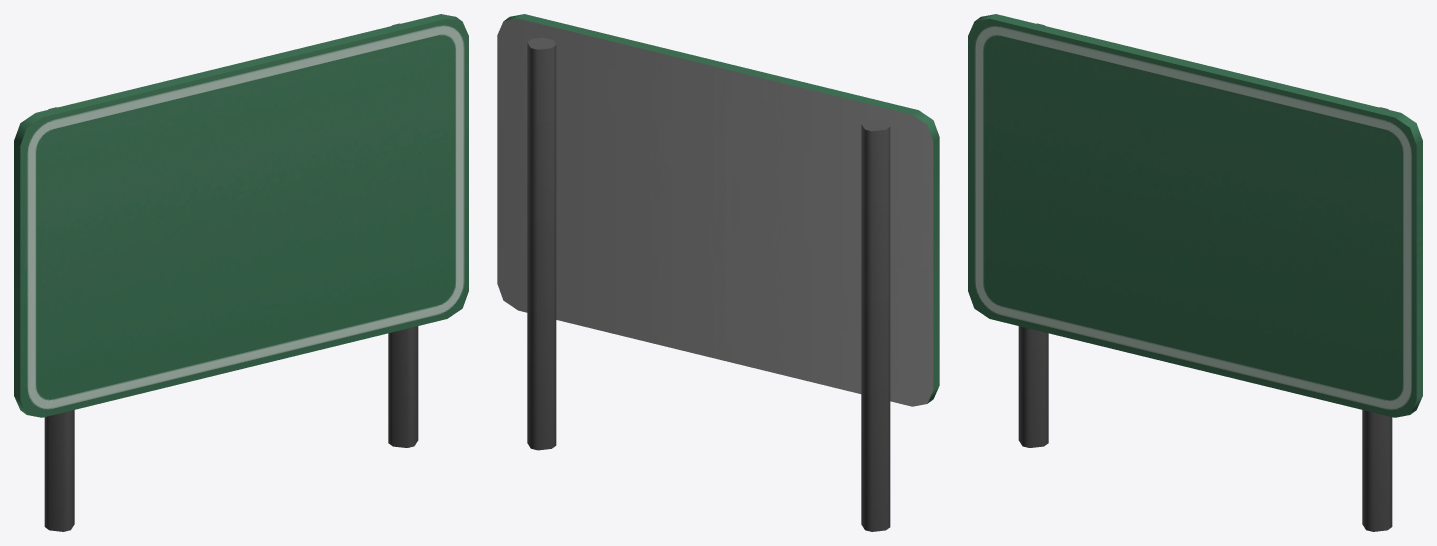
The model's file is IronSignHand.fbx.
The picture shows the model from 3 angles, left to right: view 1: azimuth 30°, elevation 25°; view 2: azimuth 150°, elevation 25°; view 3: azimuth 330°, elevation 25°; orthographic projection. The views are drawn at different scales.
Parts seen in each view (by area): view 1: crate; view 2: crate; view 3: crate.
Boxes of the visible parts, left/top/right/bottom form: crate: left=14, top=14, right=468, bottom=531; crate: left=497, top=14, right=939, bottom=531; crate: left=968, top=14, right=1422, bottom=531.
Bounding box in the file's own units: 1.44 × 1.31 × 0.1152.
